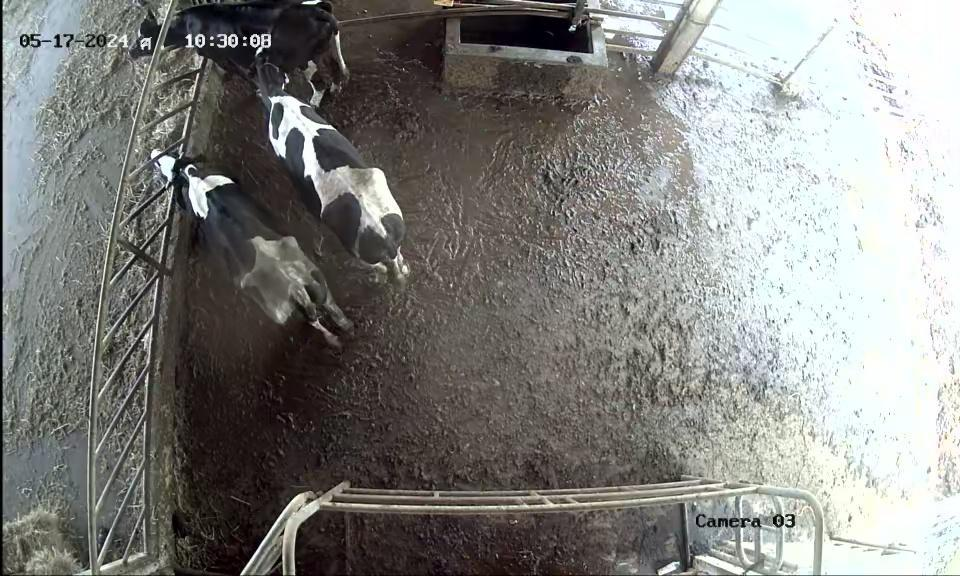eat: (96, 2, 206, 72), (104, 137, 217, 202)
stand: (238, 35, 453, 273)
